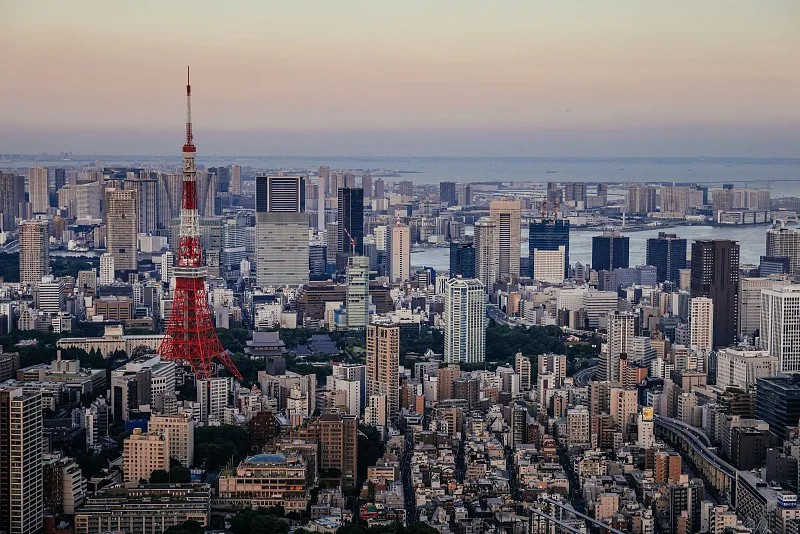Tokyo: (158, 62, 242, 382)
